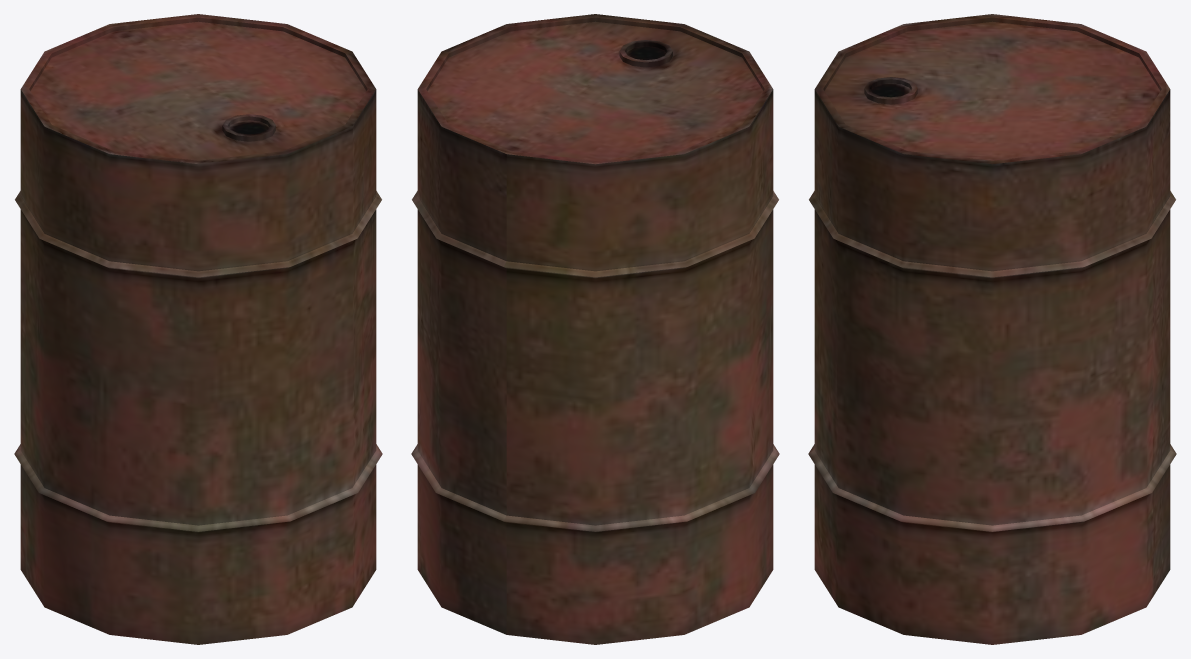
Rendered from r32_fass_4.glb.
3 views of the same model, side by side, from view 1: azimuth 30°, elevation 25°; view 2: azimuth 150°, elevation 25°; view 3: azimuth 270°, elevation 25° (orthographic).
Visible parts, largest first — view 1: fass; view 2: fass; view 3: fass.
Boxes of the visible parts, bbox=[...] form: fass: bbox=[14, 14, 382, 644]; fass: bbox=[411, 14, 779, 644]; fass: bbox=[808, 14, 1176, 644].
Bounding box in the file's own units: 0.6936 × 1 × 0.6936.
Materials: 1 (1 with a texture image).
